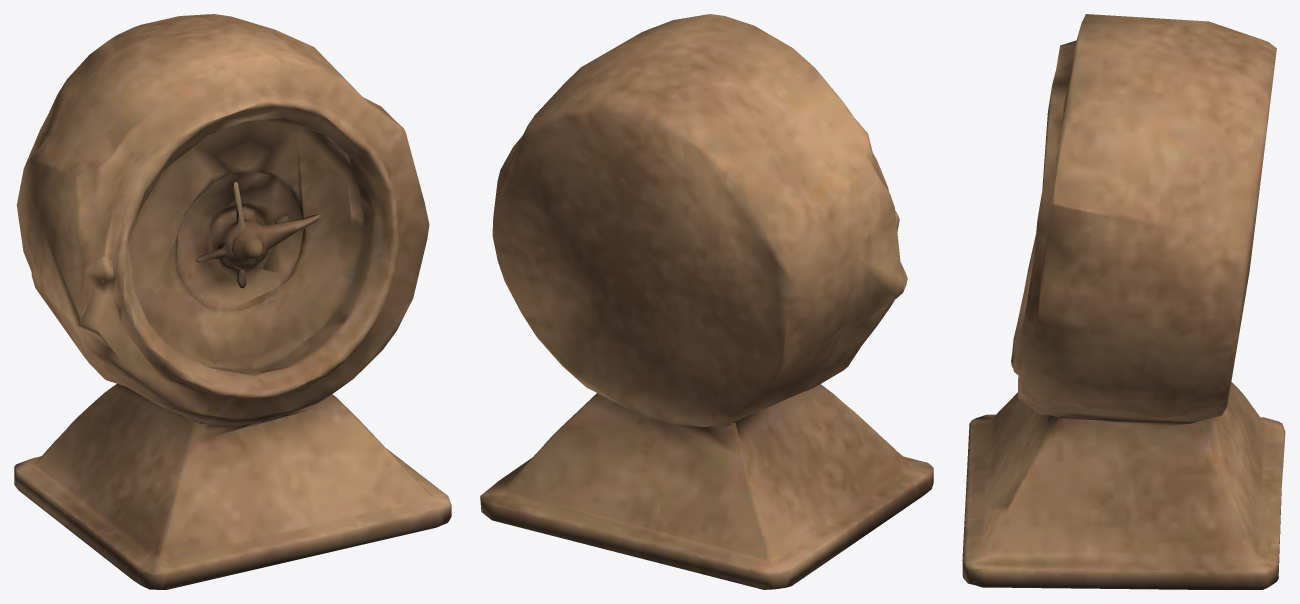
Rendered from rustic-sandstone-sundial-v001.glb.
3 views of the same model, side by side, from view 1: azimuth 30°, elevation 25°; view 2: azimuth 150°, elevation 25°; view 3: azimuth 270°, elevation 25° (orthographic). The views are drawn at different scales.
Parts seen in each view (by area): view 1: rustic-sandstone-sundial; view 2: rustic-sandstone-sundial; view 3: rustic-sandstone-sundial.
Part boxes in pixels (x1=…): rustic-sandstone-sundial: x1=14, y1=14, x2=451, y2=589; rustic-sandstone-sundial: x1=480, y1=14, x2=933, y2=589; rustic-sandstone-sundial: x1=962, y1=14, x2=1285, y2=589.
Bounding box in the file's own units: 0.7396 × 0.9571 × 0.5857.
Materials: 1 (1 with a texture image).
